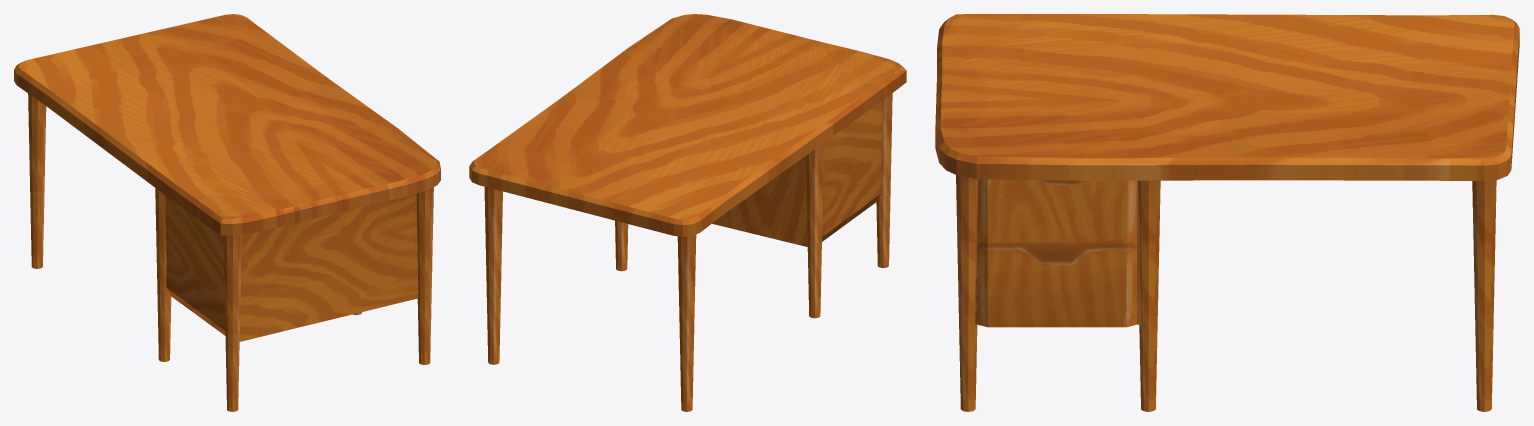
File: desk.glb
The picture shows the model from 3 angles, left to right: view 1: azimuth 30°, elevation 25°; view 2: azimuth 150°, elevation 25°; view 3: azimuth 270°, elevation 25°; orthographic projection. The views are drawn at different scales.
Visible parts, largest first — view 1: desk; view 2: desk; view 3: desk.
Part boxes in pixels (<box>): desk: <box>14,14,440,411</box>; desk: <box>469,14,906,411</box>; desk: <box>935,14,1519,411</box>.
Size of the model in its own units: 3.64 by 2.98 by 6.03.
1 material, 1 textured.
